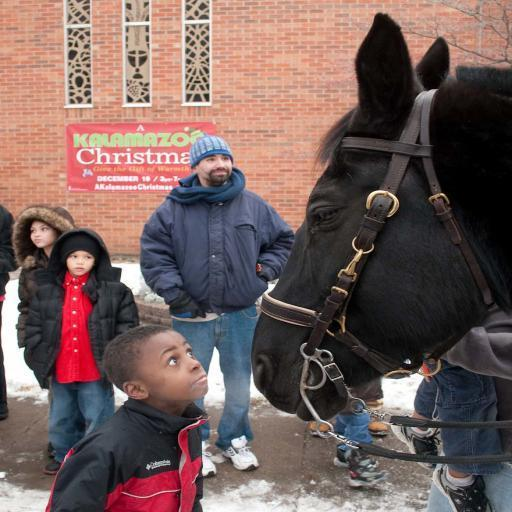horse: (246, 9, 512, 423)
